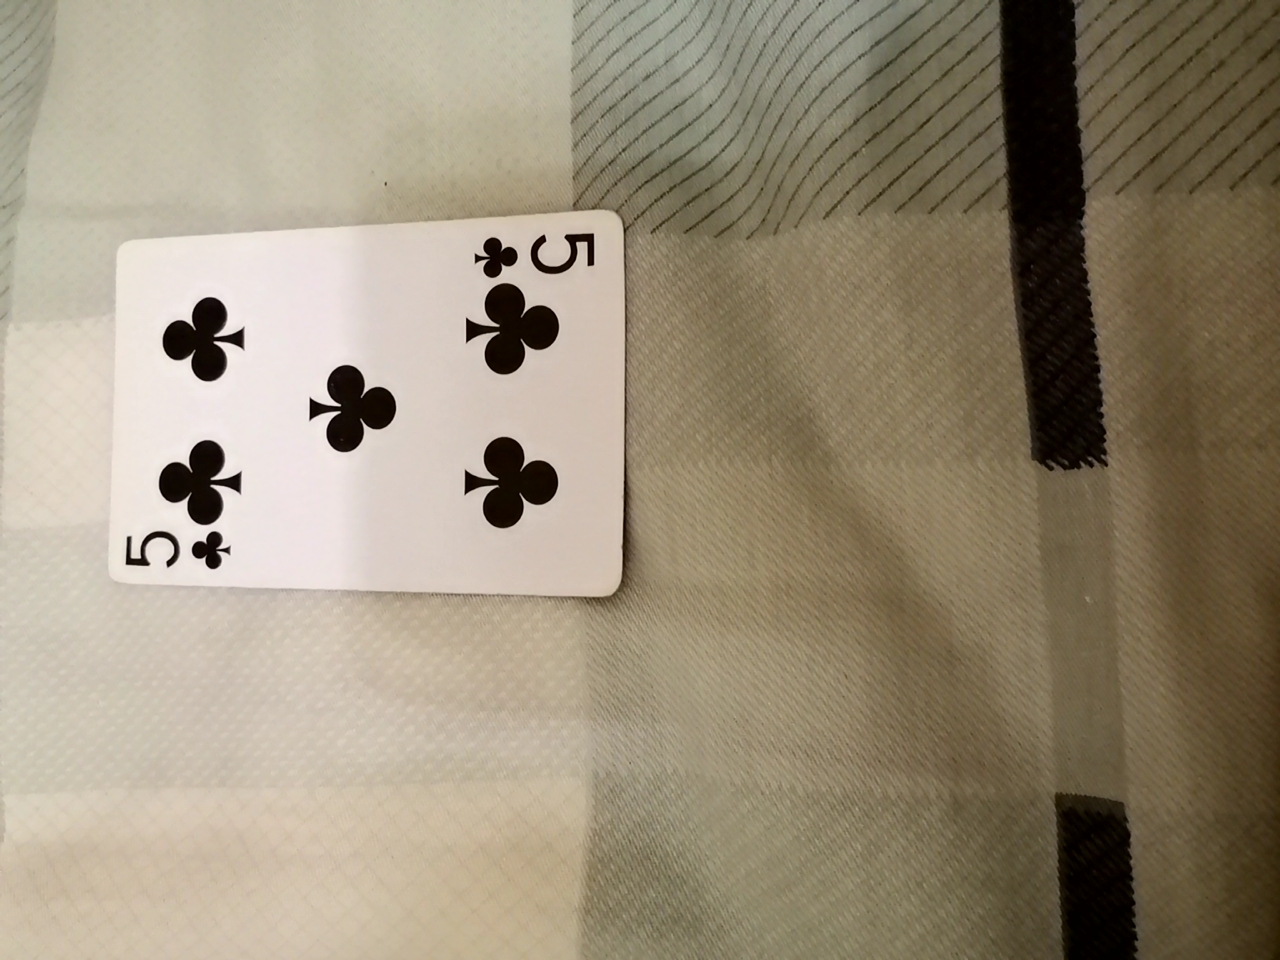mh 5: (96, 208, 604, 606)
